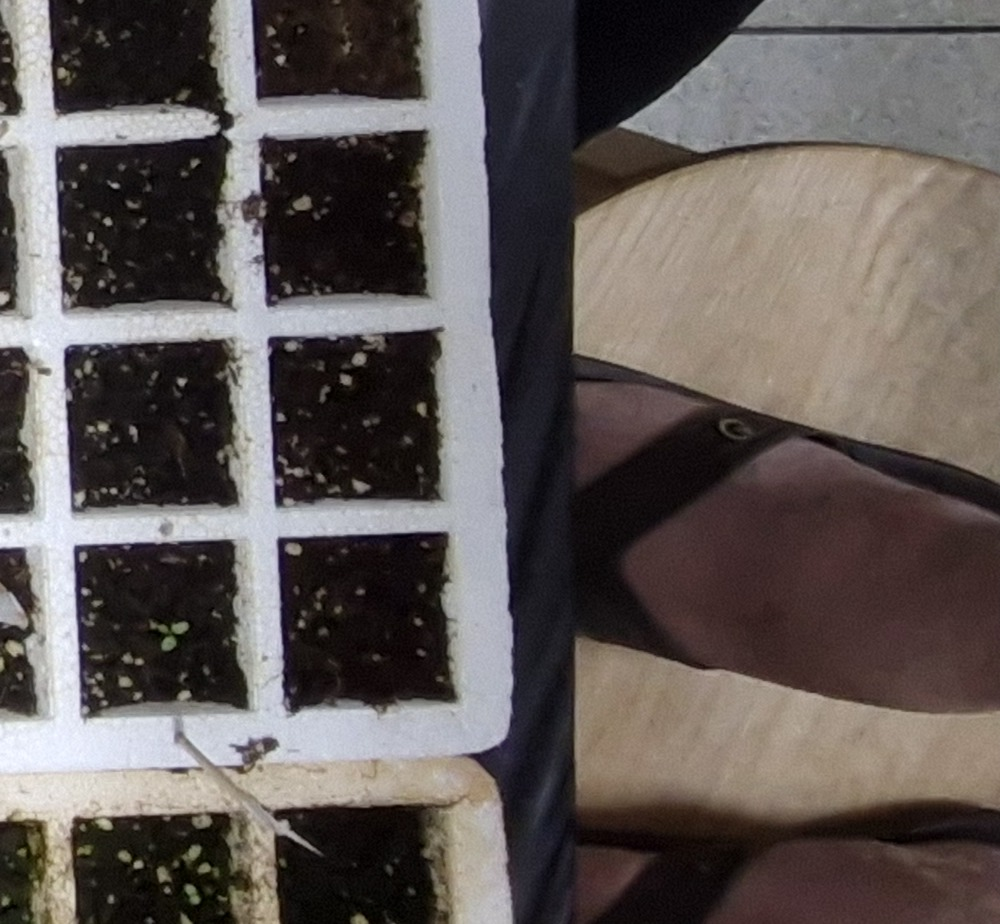Folha: (162, 637, 176, 650), (173, 623, 189, 634)
Germinacao: (158, 621, 189, 651)
